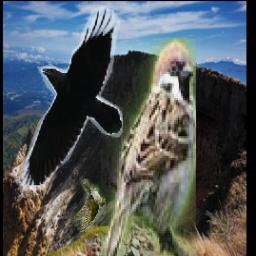Crow: (22, 4, 124, 185)
Sparrow: (101, 39, 196, 256)
Swallow: (71, 180, 106, 233)
